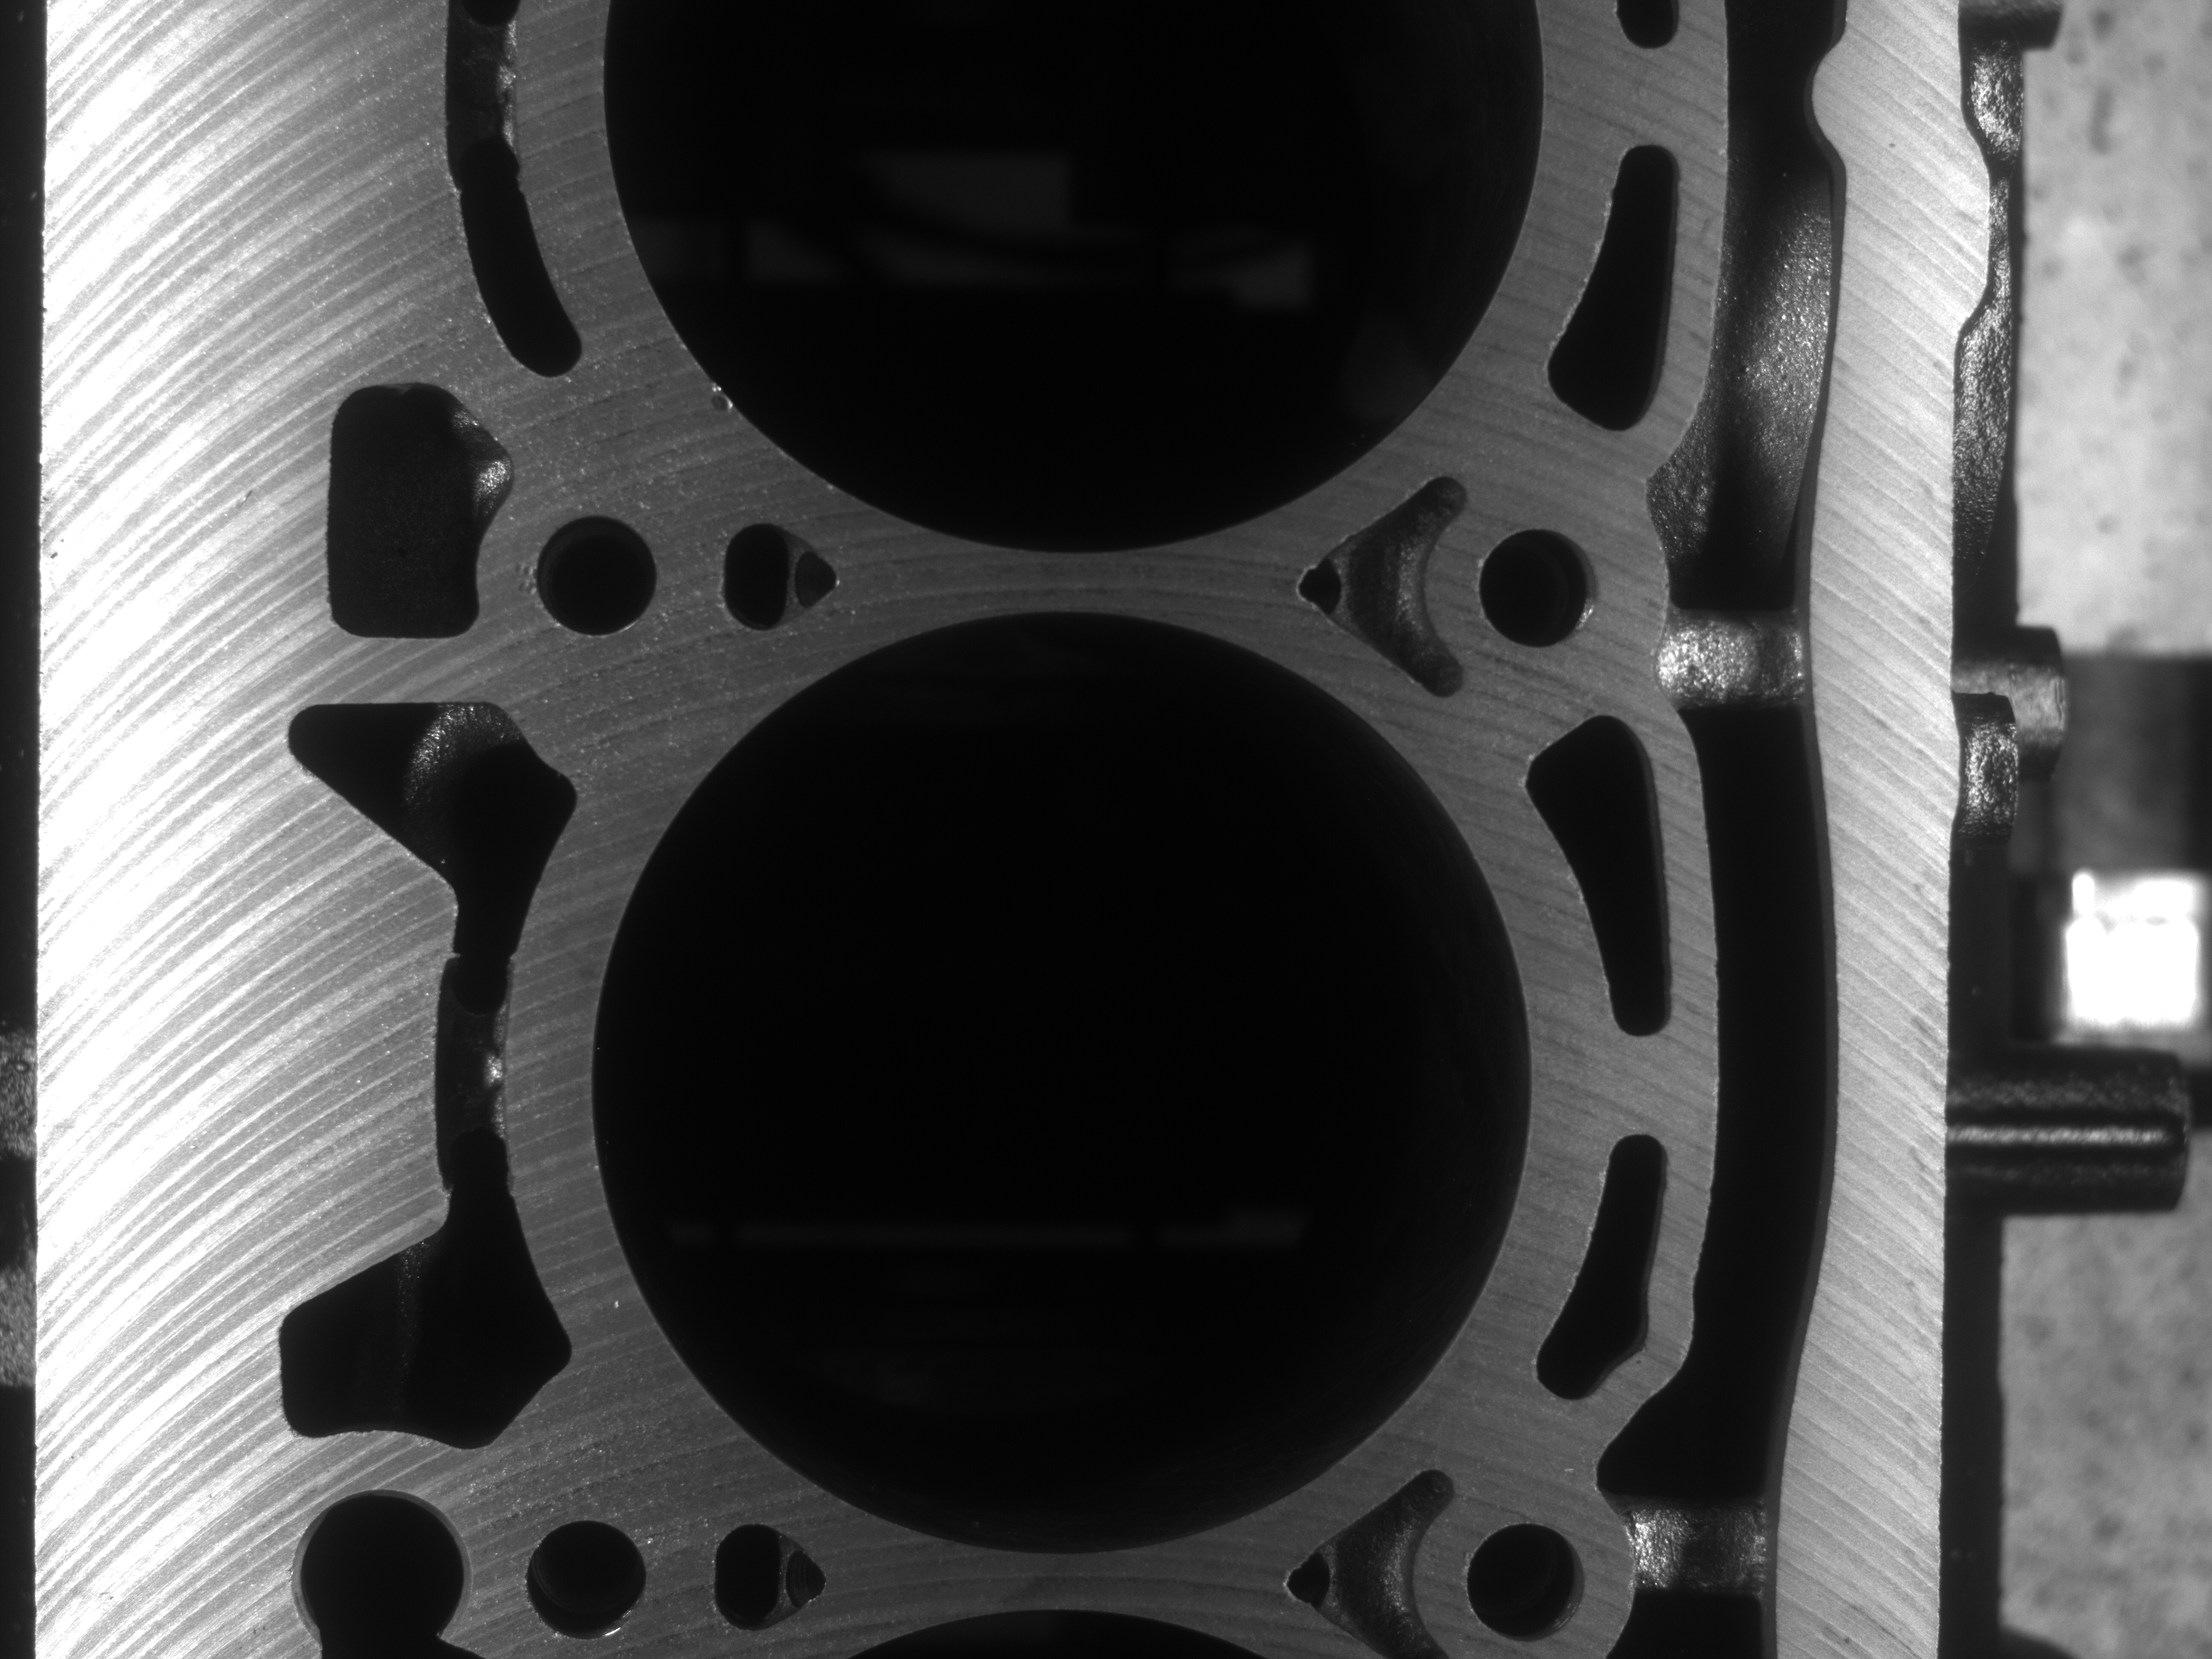shrinkage: (691, 382, 744, 413)
